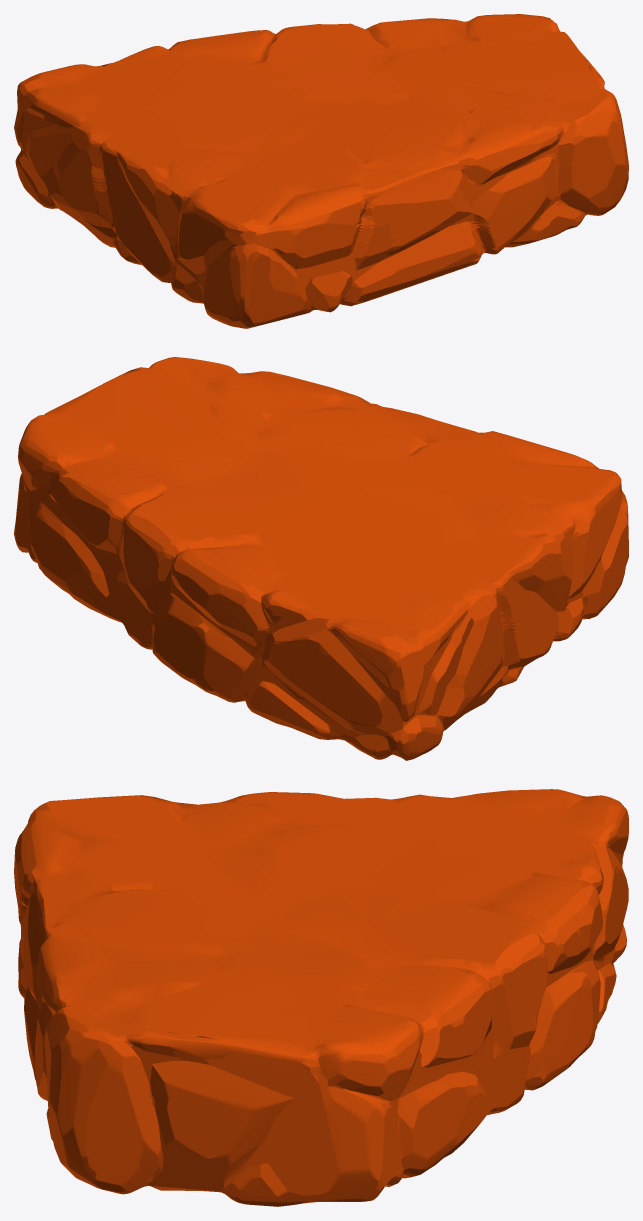
3 views of the same model, one above another, from view 1: azimuth 30°, elevation 25°; view 2: azimuth 150°, elevation 25°; view 3: azimuth 270°, elevation 25° (orthographic). The views are drawn at different scales.
Visible parts, largest first — view 1: Mesh_60_LOD0; view 2: Mesh_60_LOD0; view 3: Mesh_60_LOD0.
Boxes of the visible parts, x1,y1,x2,y2 form: Mesh_60_LOD0: (14, 14, 628, 328); Mesh_60_LOD0: (14, 357, 628, 760); Mesh_60_LOD0: (14, 789, 628, 1206).
Size of what is drawn, in the model's own units: 4478 by 1333 by 3812.
